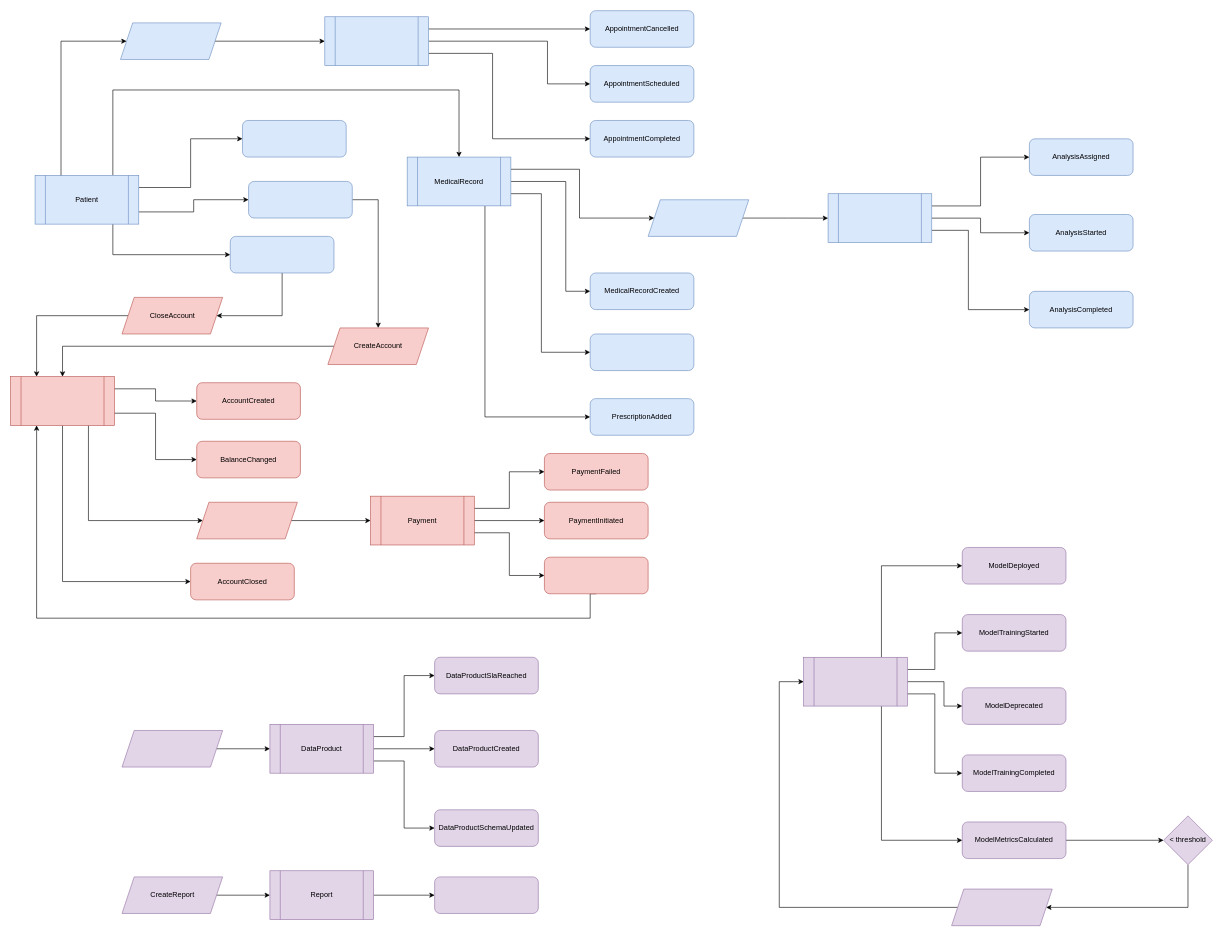
This 1223x936 diagram has some shape labels left out. The shapes that lost their labels are listed below. From the top down, each one's centre as x and y in pixels, then its label:
the point at 170,40: CreateAppointment
the point at 376,41: Appointment
the point at 294,138: PatientUpdated
the point at 300,199: PatientRegistered
the point at 698,217: CreateAnalysis
the point at 879,218: Analysis
the point at 282,254: PatientDeactivated
the point at 642,352: DiagnosisAdded
the point at 62,400: Account
the point at 246,520: CreatePayment
the point at 596,575: PaymentCompleted
the point at 855,681: MlModel
the point at 172,748: UpdateDataProduct
the point at 486,894: ReportCreated
the point at 1001,907: CreateMlModel
